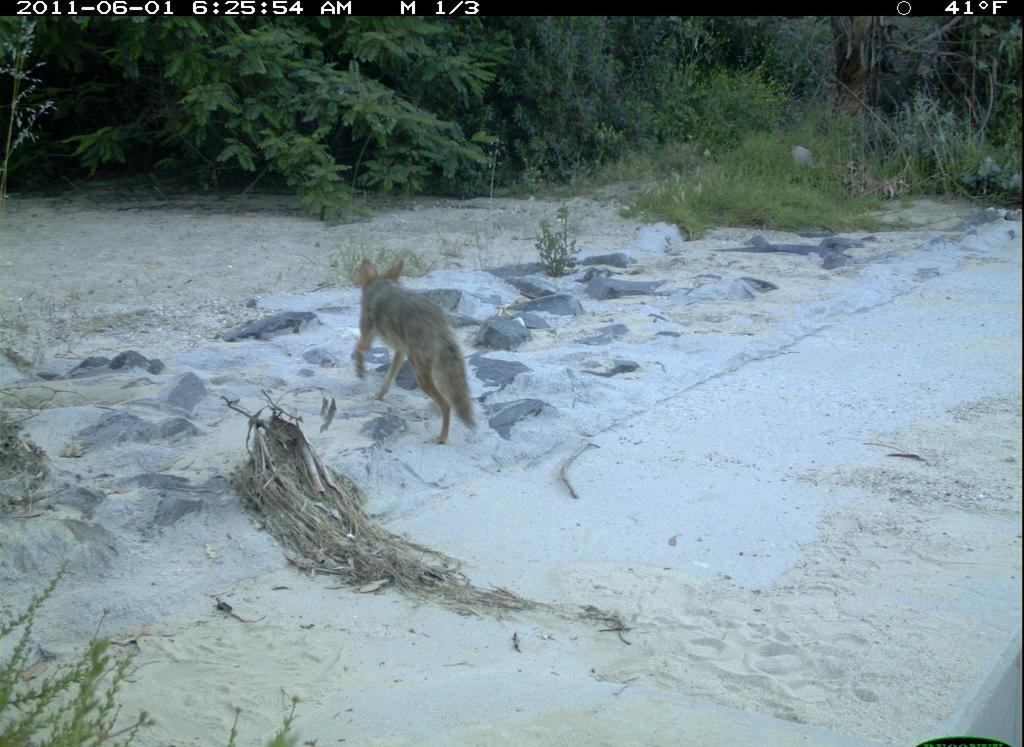coyote: (341, 257, 496, 455)
